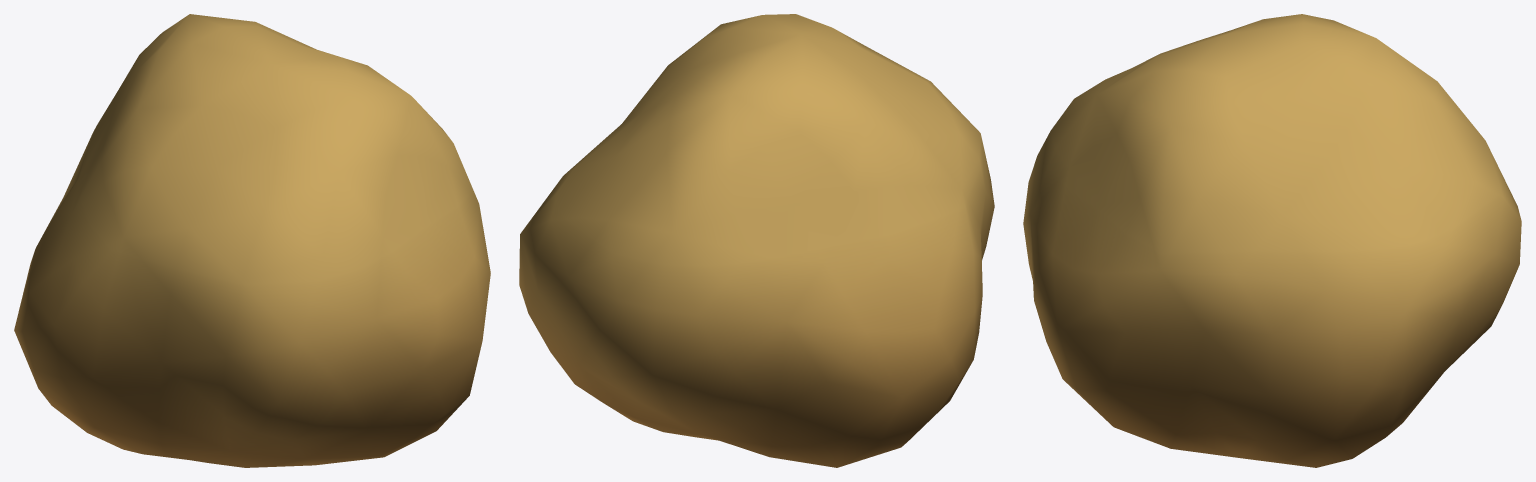
Rendered from Fbx_Rock.fbx.
3 renders of one model, left to right at view 1: azimuth 30°, elevation 25°; view 2: azimuth 150°, elevation 25°; view 3: azimuth 270°, elevation 25°, orthographic. The views are drawn at different scales.
Visible parts, largest first — view 1: Rock; view 2: Rock; view 3: Rock.
Boxes of the visible parts, x1,y1,x2,y2 form: Rock: [14, 14, 490, 467]; Rock: [519, 14, 994, 467]; Rock: [1023, 14, 1521, 467].
Size of the model in its own units: 0.2631 by 0.2378 by 0.276.
Materials: 1 (1 with a texture image).
